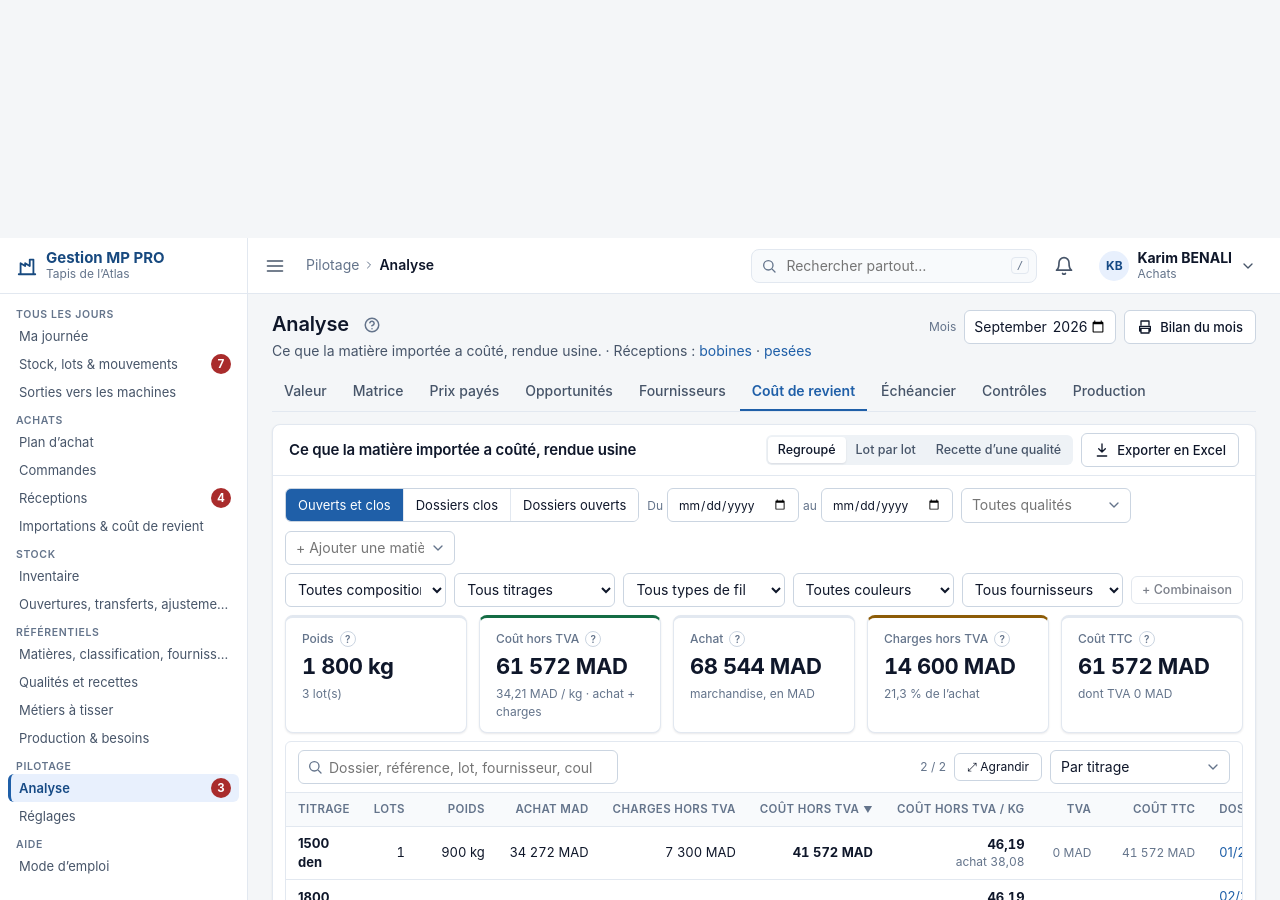
Test: Coût de revient : les gestes écrivent l’adresse › bascule de vue : « Lot par lot » écrit vue=lots et demande le détail par référence
(page scrolled)
Click the button "Lot par lot" at (886, 450), box [846,437,926,463]
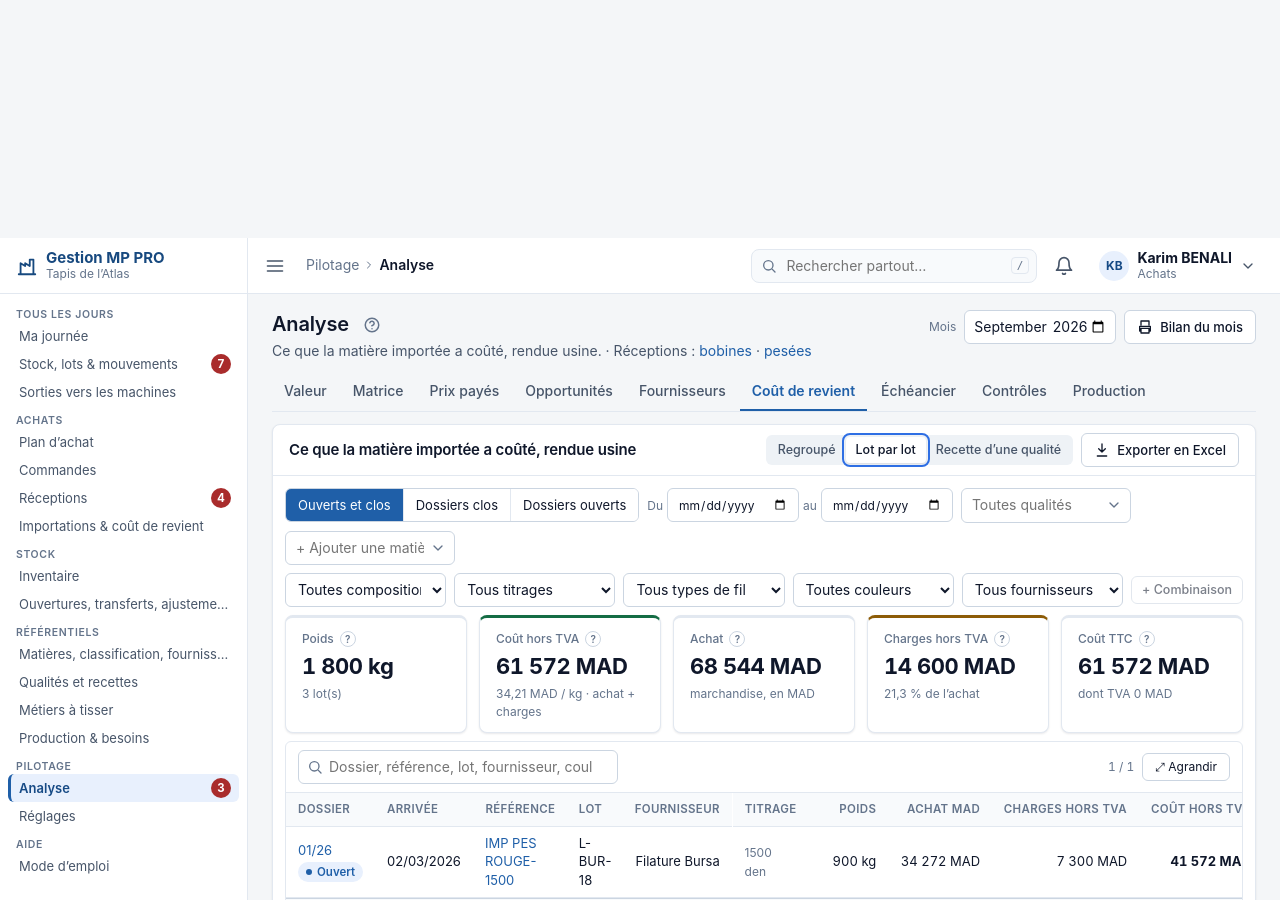
Expected: the text "L-BUR-18" is shown, [567,827,623,898]
